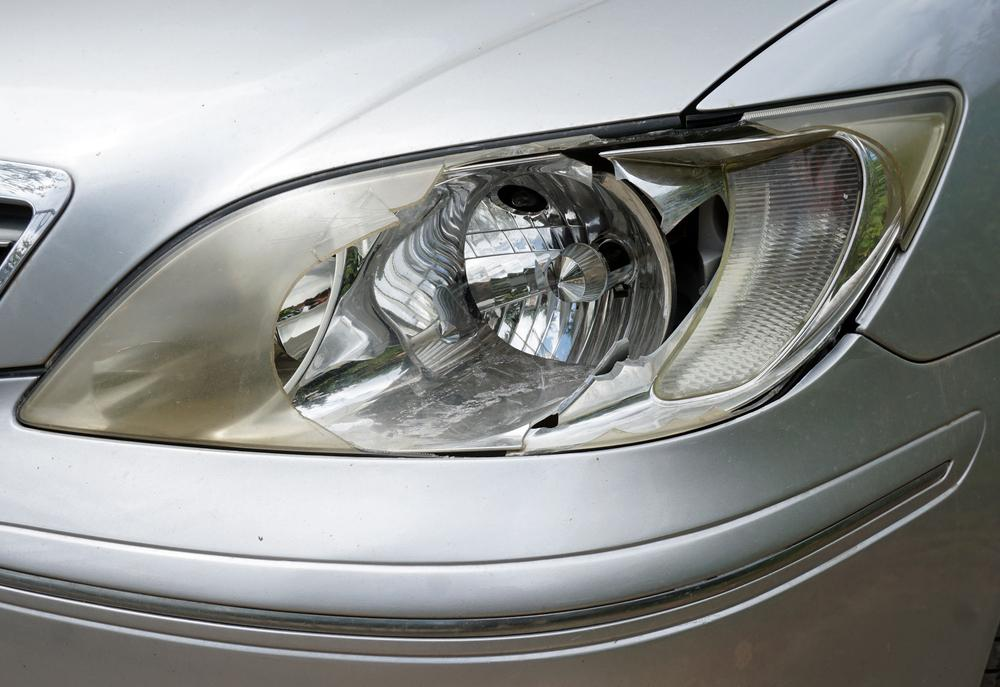lamp broken: (15, 85, 965, 455)
